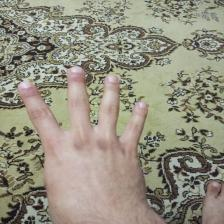four: (10, 64, 152, 222)
